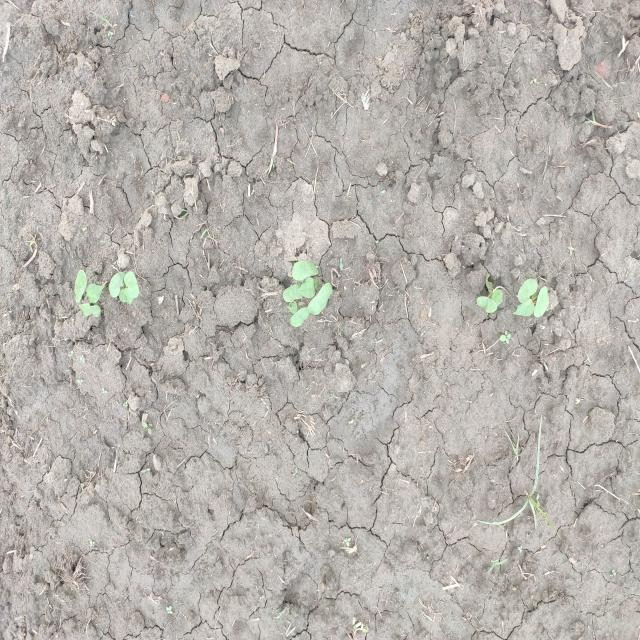seedling: (308, 282, 333, 315), (518, 278, 538, 304), (292, 261, 318, 280), (534, 286, 549, 318), (124, 271, 139, 299), (109, 272, 125, 298), (74, 270, 87, 302), (290, 307, 309, 327), (282, 284, 303, 302), (513, 299, 535, 316), (86, 284, 105, 303), (298, 278, 316, 298), (476, 297, 497, 313), (79, 303, 101, 317), (119, 288, 133, 305), (492, 290, 502, 306), (287, 301, 297, 314)
